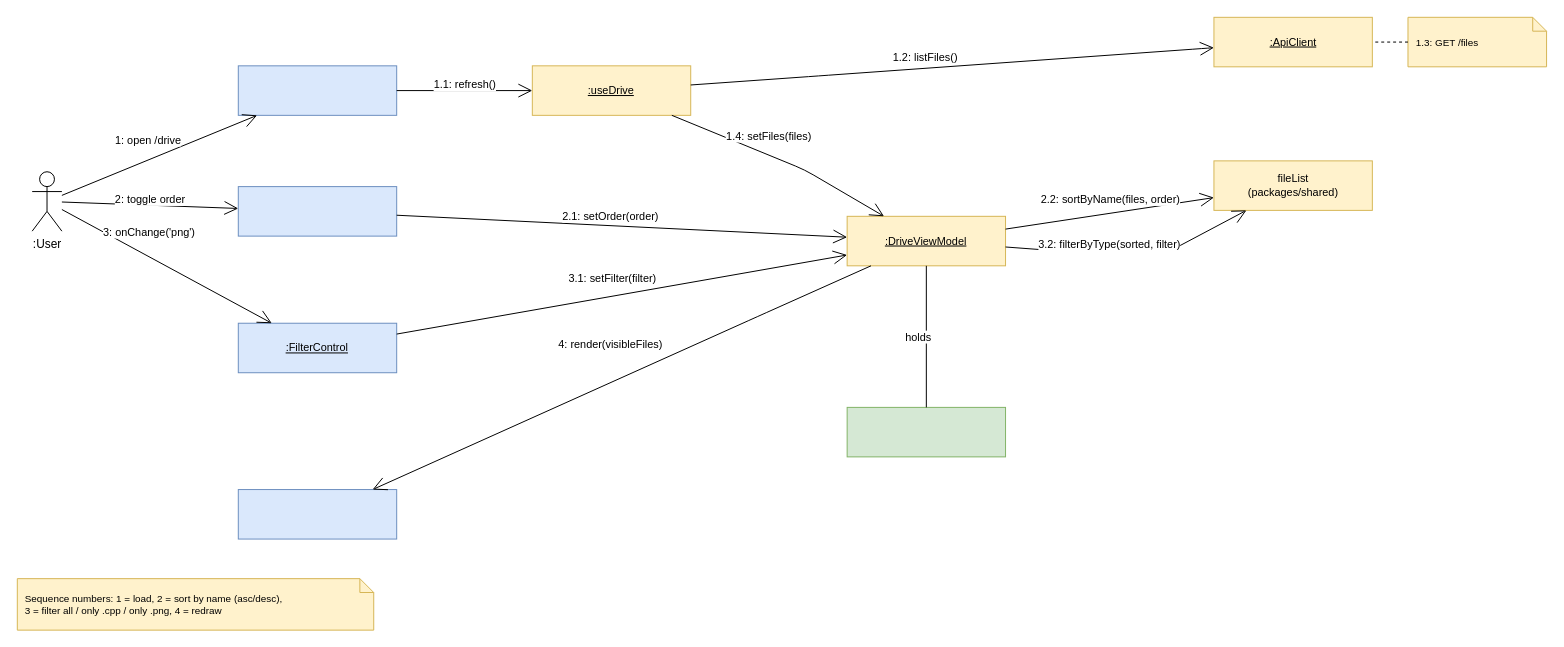
Some shapes in this 1564 by 647 pixel diagram are drawn without their labels. The centre of each missing label's shape, as x and y in pixels:
":DriveWorkspace" belongs at (317,90).
":FileTable" belongs at (317,514).
":SortControl" belongs at (317,211).
"files : FileDto[]" belongs at (926,431).
